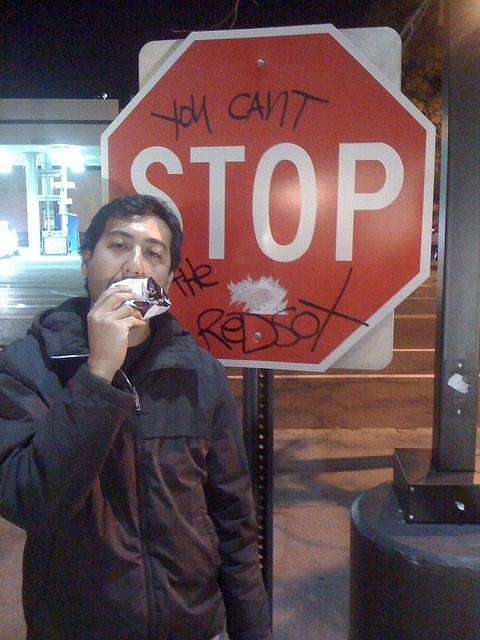Stop Signal: (67, 1, 469, 406)
